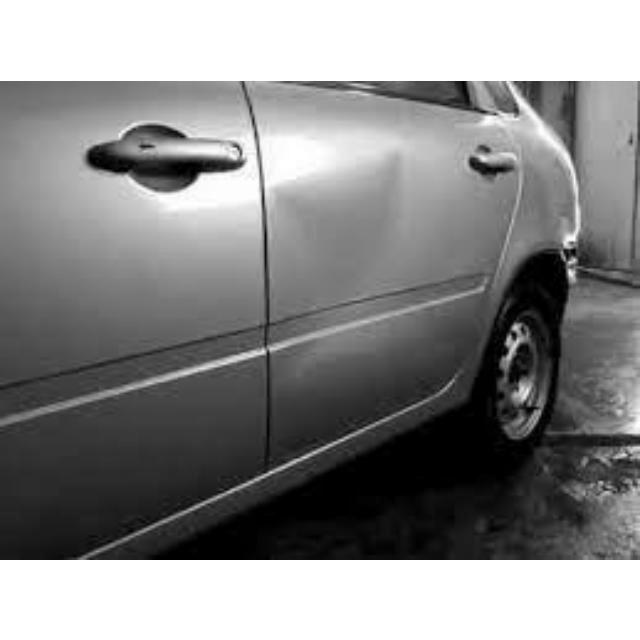doorouter-dent: (263, 88, 524, 468)
